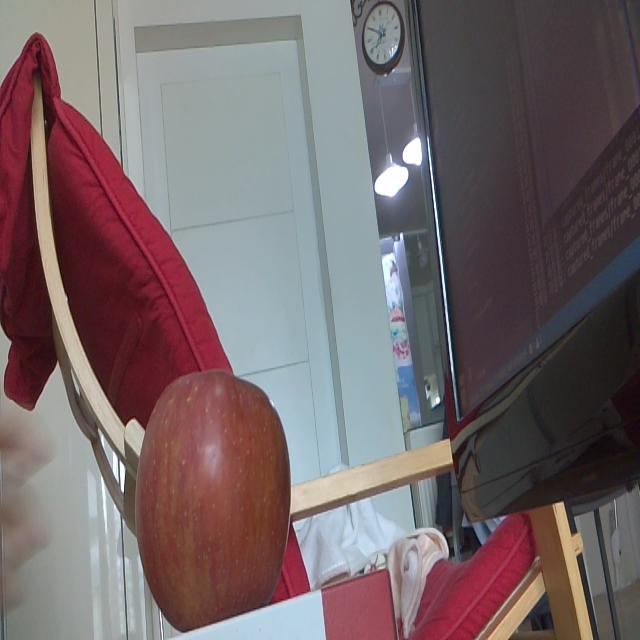apple: (133, 364, 295, 628)
